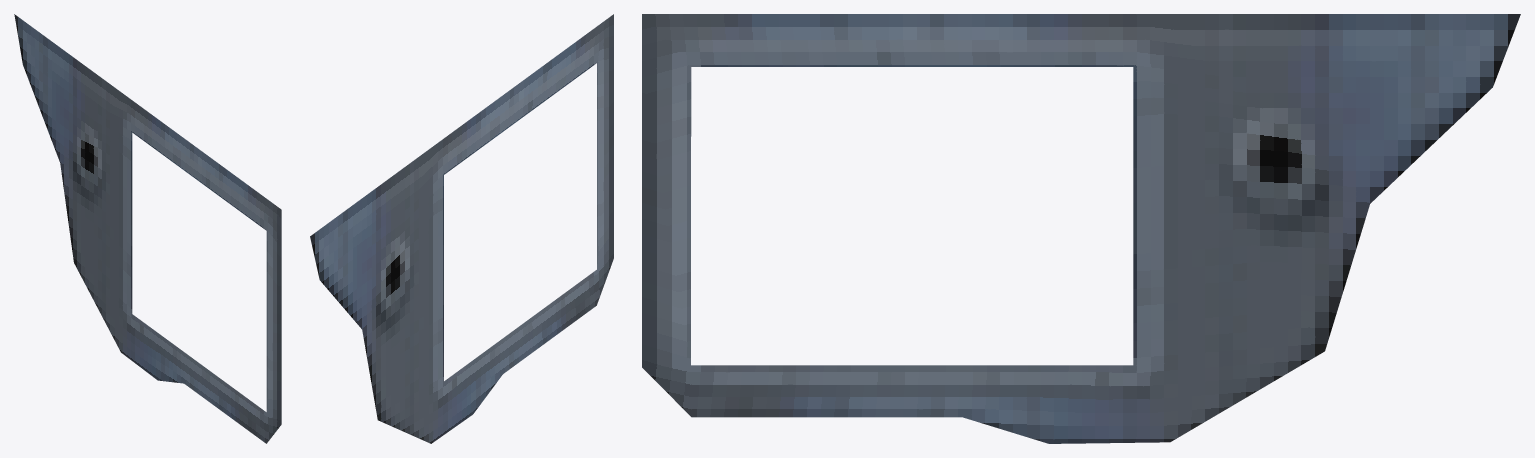
3 views of the same model, side by side, from view 1: azimuth 30°, elevation 25°; view 2: azimuth 150°, elevation 25°; view 3: azimuth 270°, elevation 25° (orthographic). The views are drawn at different scales.
Visible parts, largest first — view 1: Plane17; view 2: Plane17; view 3: Plane17.
Part boxes in pixels (x1,y1,x2,y2): Plane17: (14,14,281,443); Plane17: (310,14,613,443); Plane17: (642,14,1520,443).
Size of the model in its own units: 0 by 485 by 898.
Materials: 1 (1 with a texture image).
